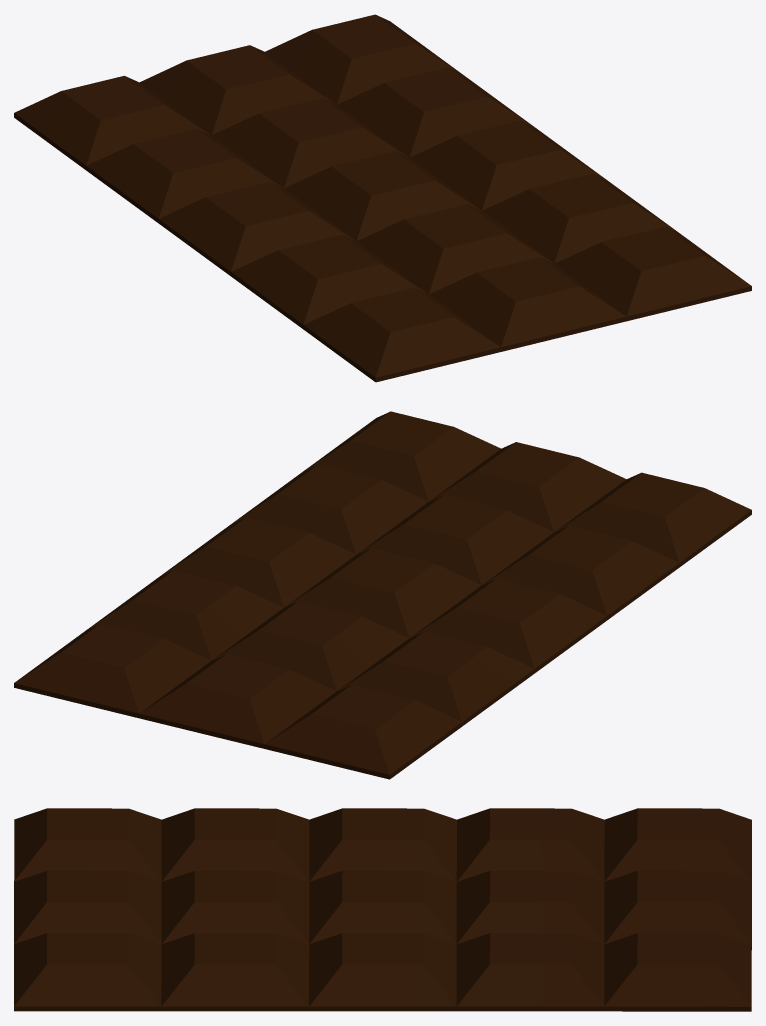
File: Chocolate.fbx
3 renders of one model, top to bottom at view 1: azimuth 30°, elevation 25°; view 2: azimuth 150°, elevation 25°; view 3: azimuth 270°, elevation 25°, orthographic.
Visible parts, largest first — view 1: Chocolate; view 2: Chocolate; view 3: Chocolate.
Part boxes in pixels (left/top/right/bottom): Chocolate: left=14, top=14, right=751, bottom=382; Chocolate: left=14, top=411, right=751, bottom=779; Chocolate: left=14, top=808, right=751, bottom=1011.
Size of the model in its own units: 503 by 39.56 by 839.
